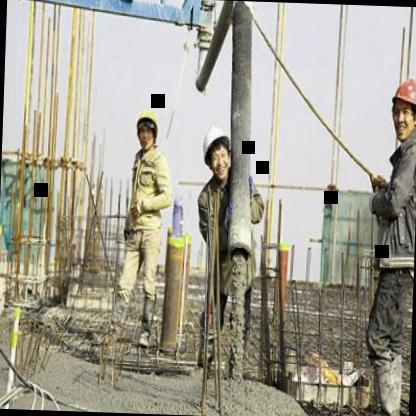helmet: (200, 120, 233, 188), (387, 71, 416, 146), (133, 103, 161, 154)
